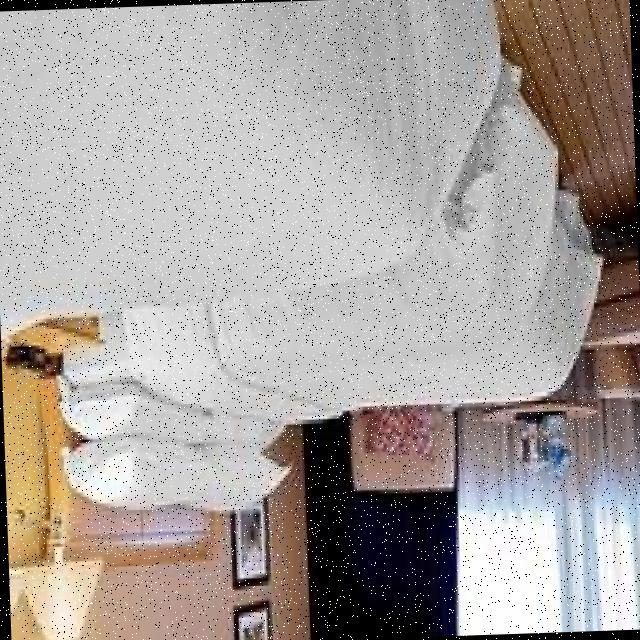Bed: (24, 69, 601, 574)
